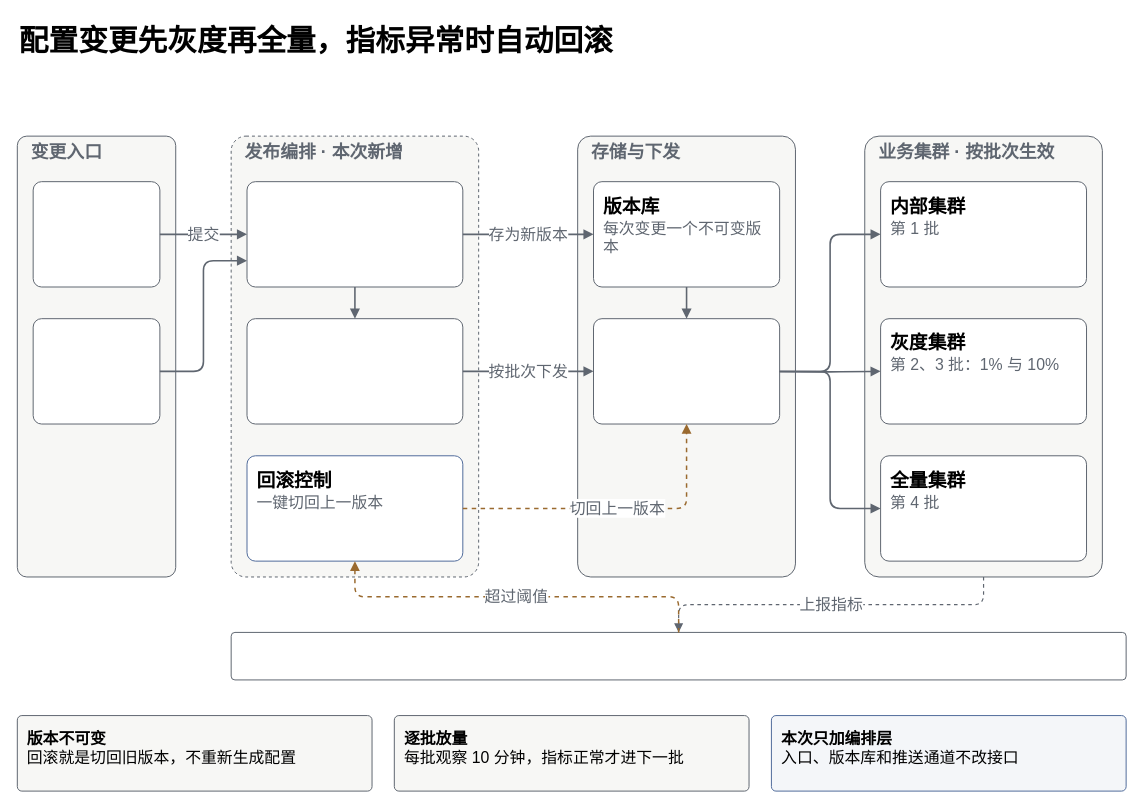
Image size: 1143x809. Some labels were removed from this diagram. The shapes that lost their labels are listed below. From the top down, each one's centre as x and y in pixels, then its label:
At pixel 96 234: "控制台 人工提交与审批".
At pixel 354 234: "校验 Schema、权限与冲突检查".
At pixel 96 371: "OpenAPI CI 流水线调用".
At pixel 354 371: "灰度计划 内部 → 1% → 10% → 全量".
At pixel 686 371: "推送通道 长连接推送，断连时客户端用旧值".
At pixel 678 655: "观测：错误率 · 延迟 P99 · 配置生效率".
